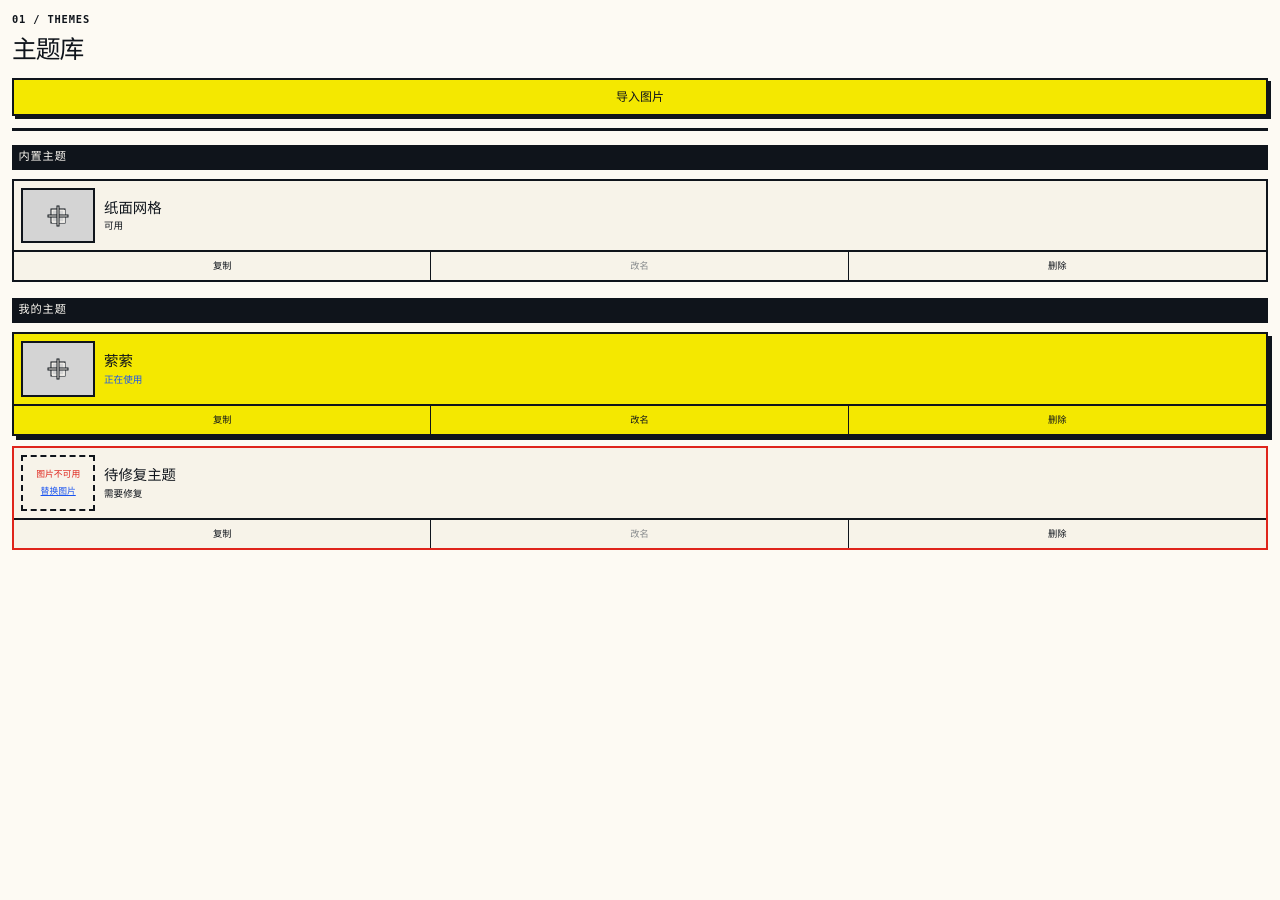
Test: ThemeLibrary › shows a visible error when the native image picker cannot open
What coordinates should you click on to do the following:
click the button "导入图片"
I would click on:
 (640, 97)
Its box is x1=12 y1=78 x2=1268 y2=116.
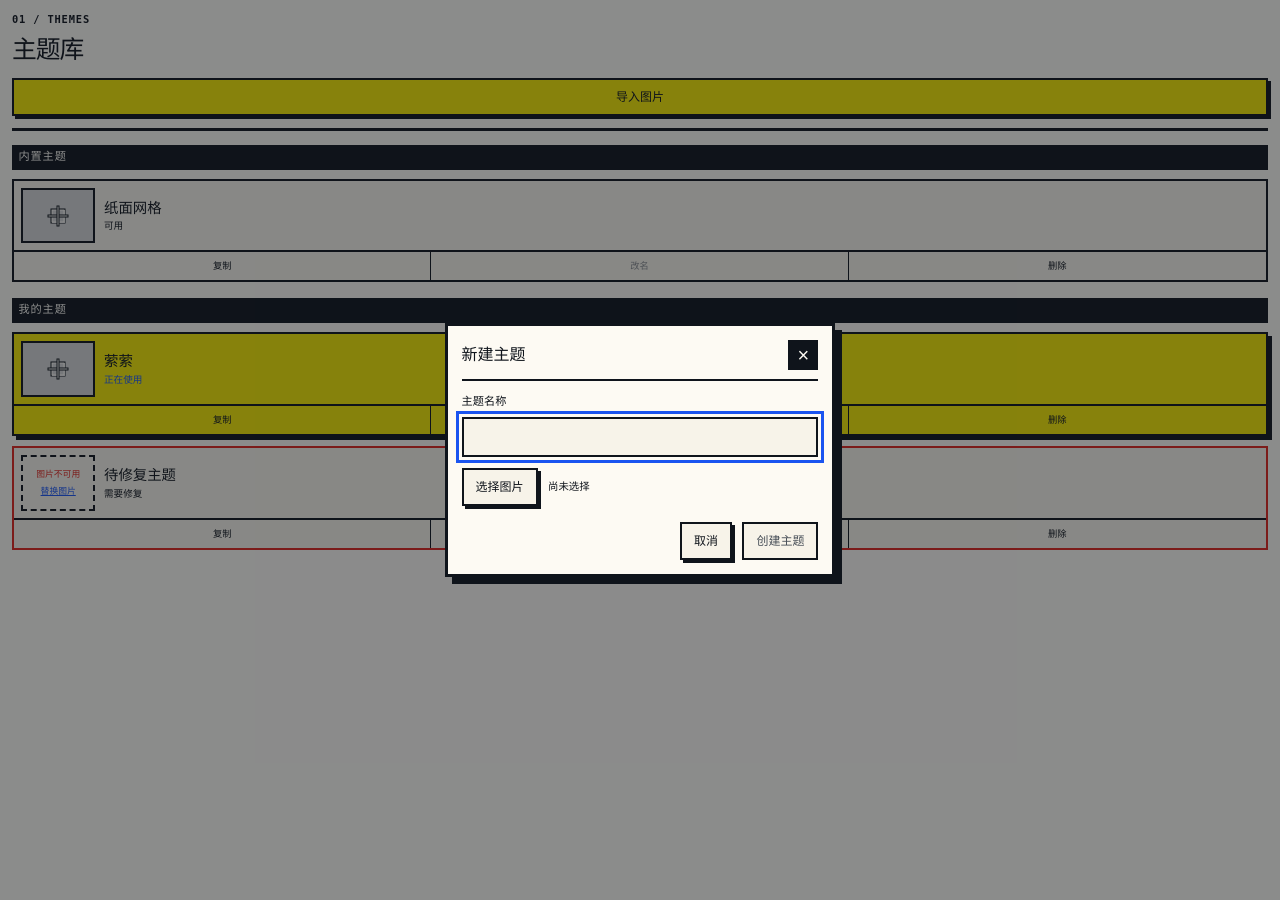
What coordinates should you click on to do the following:
click the button "选择图片"
I would click on:
 (500, 487)
Its box is x1=462 y1=468 x2=538 y2=506.
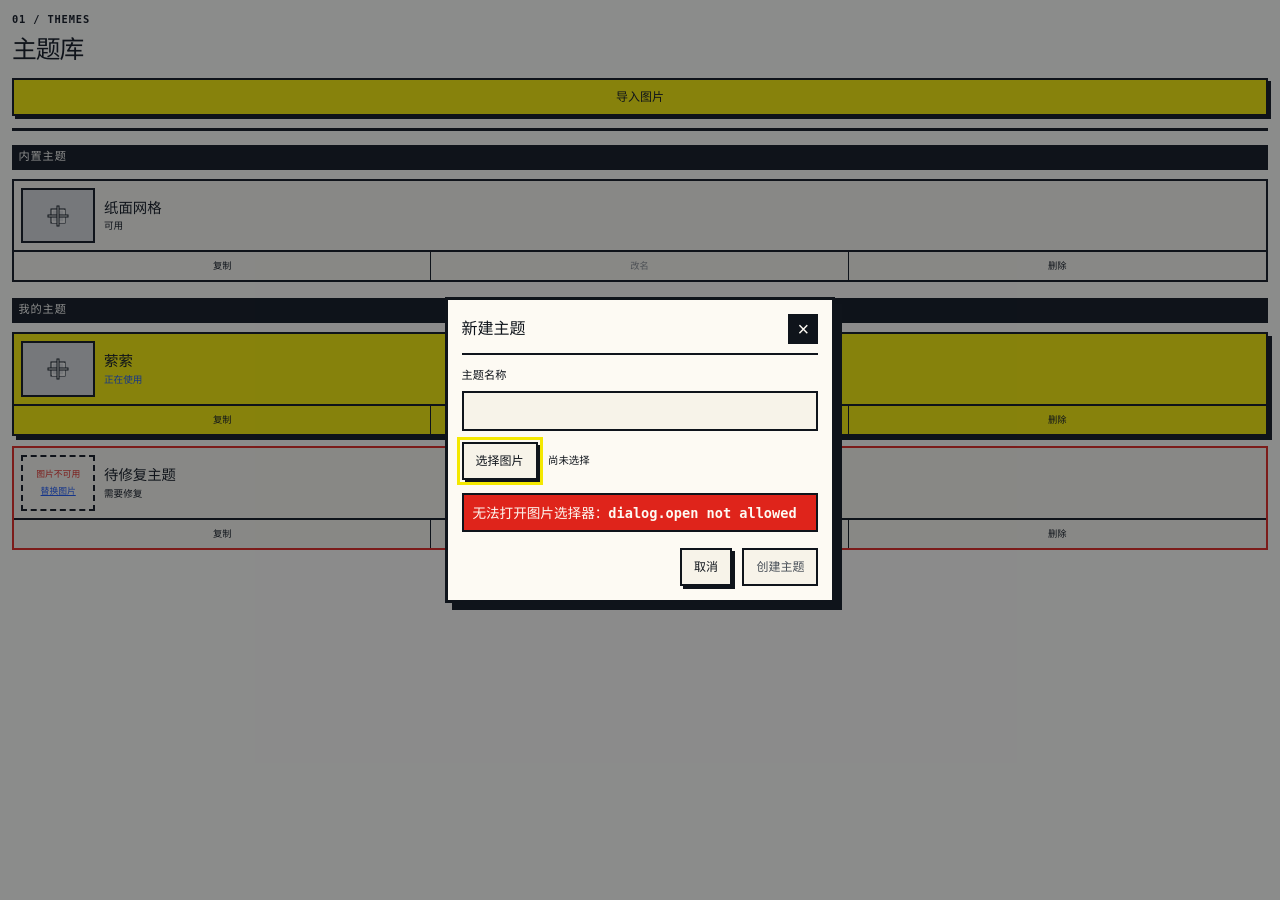
Check: the message reads "无法打开图片选择器：dialog.open not allowed", box x1=462 y1=493 x2=818 y2=532
